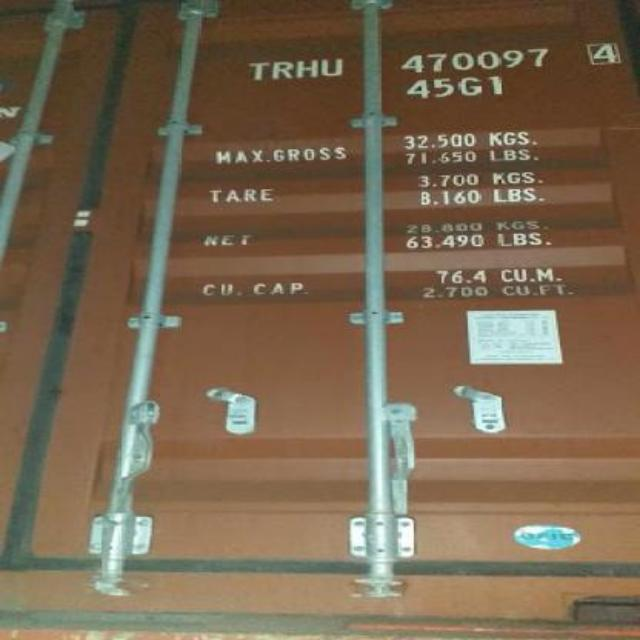0: (448, 50, 476, 72), (476, 50, 502, 70)
4: (586, 44, 624, 64), (394, 52, 428, 72)
7: (526, 46, 552, 70), (428, 53, 449, 71)
9: (504, 48, 528, 68)
H: (290, 59, 320, 80)
R: (270, 60, 292, 80)
T: (244, 58, 272, 82)
U: (318, 58, 348, 78)
